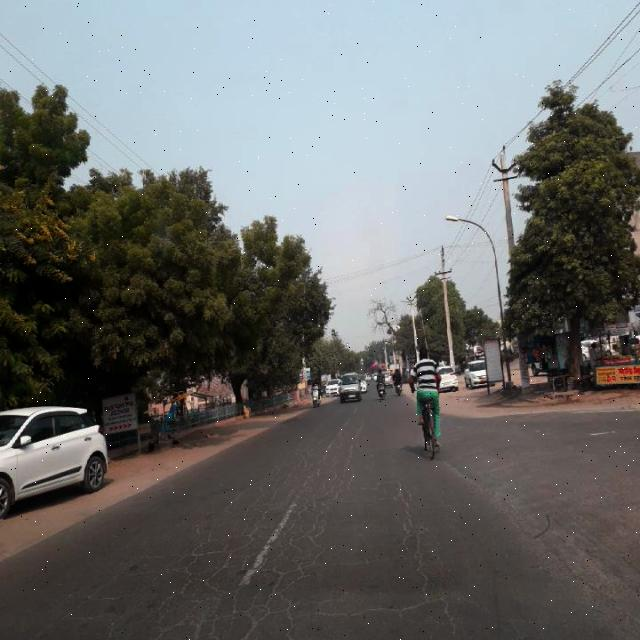D20: (152, 465, 452, 639)
D44: (242, 495, 300, 588)
